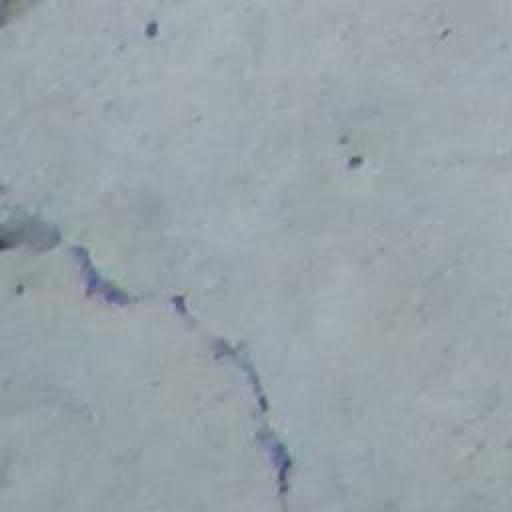spalling: (7, 185, 317, 507)
